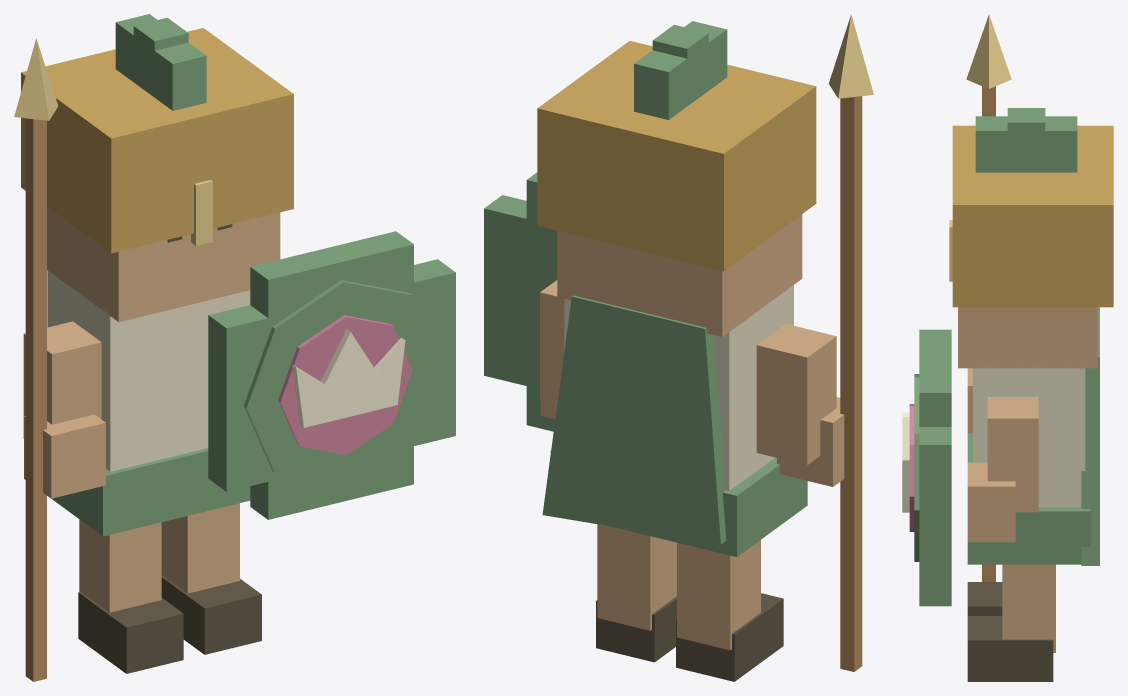
The model's file is voxel.glb.
3 views of the same model, side by side, from view 1: azimuth 30°, elevation 25°; view 2: azimuth 150°, elevation 25°; view 3: azimuth 270°, elevation 25° (orthographic). The views are drawn at different scales.
Parts seen in each view (by area): view 1: Bronze helmet.005, Stepped shield, Solid tunic.001, Shield face.010, Face.005, Spear shaft.005, Green skirt.001, Shield face.011, Crown relief.005, Leg.006, Sandal.008, Leg.007 (+8 smaller); view 2: Bronze helmet.005, Cape.004, Face.005, Spear shaft.005, Stepped shield, Arm.010, Solid tunic.001, Leg.006, Leg.007, Green skirt.001, Sandal.008, Crest block (+6 smaller); view 3: Bronze helmet.005, Solid tunic.001, Stepped shield, Face.005, Green skirt.001, Arm.011, Sandal.009, Leg.007, Hand.011, Cape.004, Crest block.001, Crest block (+8 smaller).
Boxes of the visible parts, bbox=[...] form: Bronze helmet.005: bbox=[21, 28, 293, 253]; Stepped shield: bbox=[208, 231, 455, 519]; Solid tunic.001: bbox=[47, 270, 250, 471]; Shield face.010: bbox=[244, 280, 441, 486]; Face.005: bbox=[47, 206, 280, 321]; Spear shaft.005: bbox=[25, 118, 46, 681]; Green skirt.001: bbox=[51, 448, 250, 536]; Shield face.011: bbox=[278, 315, 412, 455]; Crown relief.005: bbox=[292, 329, 405, 427]; Leg.006: bbox=[79, 519, 161, 612]; Sandal.008: bbox=[78, 592, 183, 673]; Leg.007: bbox=[161, 503, 239, 593]; Bronze helmet.005: bbox=[537, 41, 816, 271]; Cape.004: bbox=[542, 295, 726, 544]; Face.005: bbox=[557, 214, 802, 336]; Spear shaft.005: bbox=[840, 96, 862, 671]; Stepped shield: bbox=[484, 172, 557, 431]; Arm.010: bbox=[756, 324, 836, 465]; Solid tunic.001: bbox=[564, 285, 793, 490]; Leg.006: bbox=[677, 540, 760, 650]; Leg.007: bbox=[597, 524, 676, 630]; Green skirt.001: bbox=[550, 450, 807, 557]; Sandal.008: bbox=[676, 593, 783, 681]; Crest block: bbox=[634, 50, 690, 119]; Bronze helmet.005: bbox=[952, 125, 1113, 307]; Solid tunic.001: bbox=[973, 365, 1085, 506]; Stepped shield: bbox=[919, 329, 951, 606]; Face.005: bbox=[958, 307, 1097, 368]; Green skirt.001: bbox=[967, 433, 1090, 564]; Arm.011: bbox=[987, 397, 1038, 512]; Sandal.009: bbox=[967, 616, 1053, 681]; Leg.007: bbox=[1002, 564, 1055, 652]; Hand.011: bbox=[967, 462, 1015, 542]; Cape.004: bbox=[1081, 307, 1099, 565]; Crest block.001: bbox=[1007, 108, 1045, 172]; Crest block: bbox=[1040, 116, 1077, 172].
Size of the model in its own units: 1.55 by 2.37 by 0.7897.
